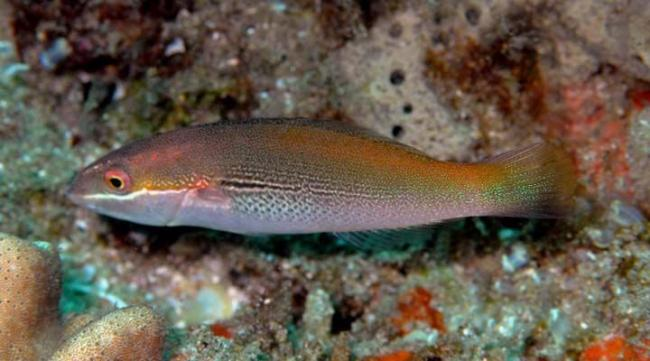fish: (66, 117, 578, 251)
